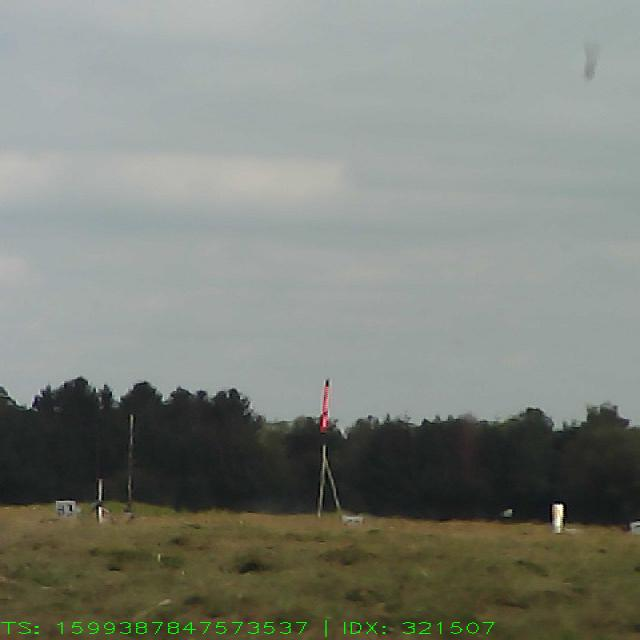Rocket: (319, 378, 333, 432)
